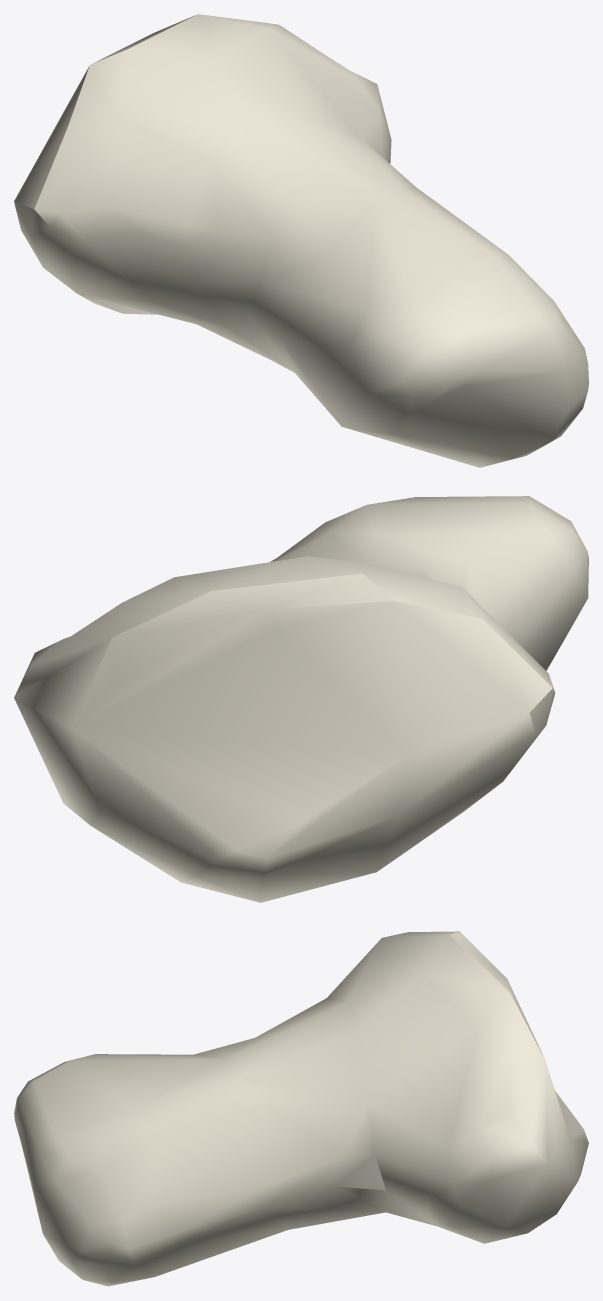
The model's file is fma32659.glb.
3 views of the same model, one above another, from view 1: azimuth 30°, elevation 25°; view 2: azimuth 150°, elevation 25°; view 3: azimuth 270°, elevation 25° (orthographic). The views are drawn at different scales.
Visible parts, largest first — view 1: FMA32659; view 2: FMA32659; view 3: FMA32659.
Part boxes in pixels (x1,y1,x2,y2): FMA32659: (14,14,588,467); FMA32659: (14,496,588,902); FMA32659: (14,931,588,1286).
Bounding box in the file's own units: 0.00753 × 0.0055 × 0.0106.
